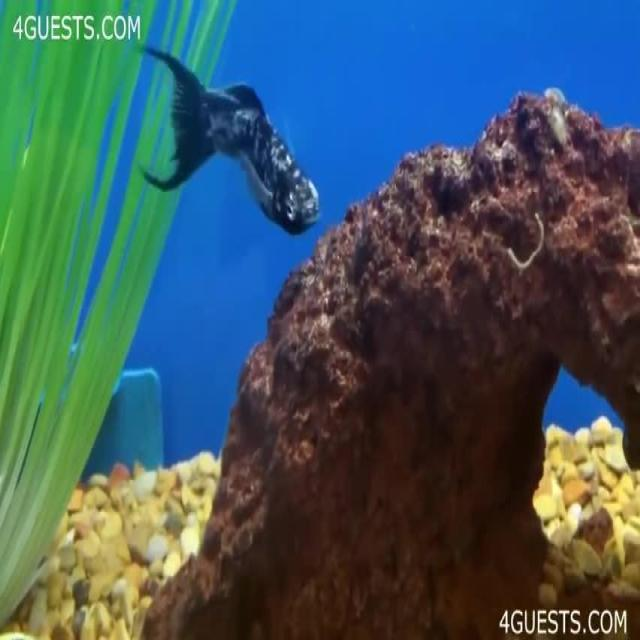PlatyFish: (131, 35, 326, 254)
